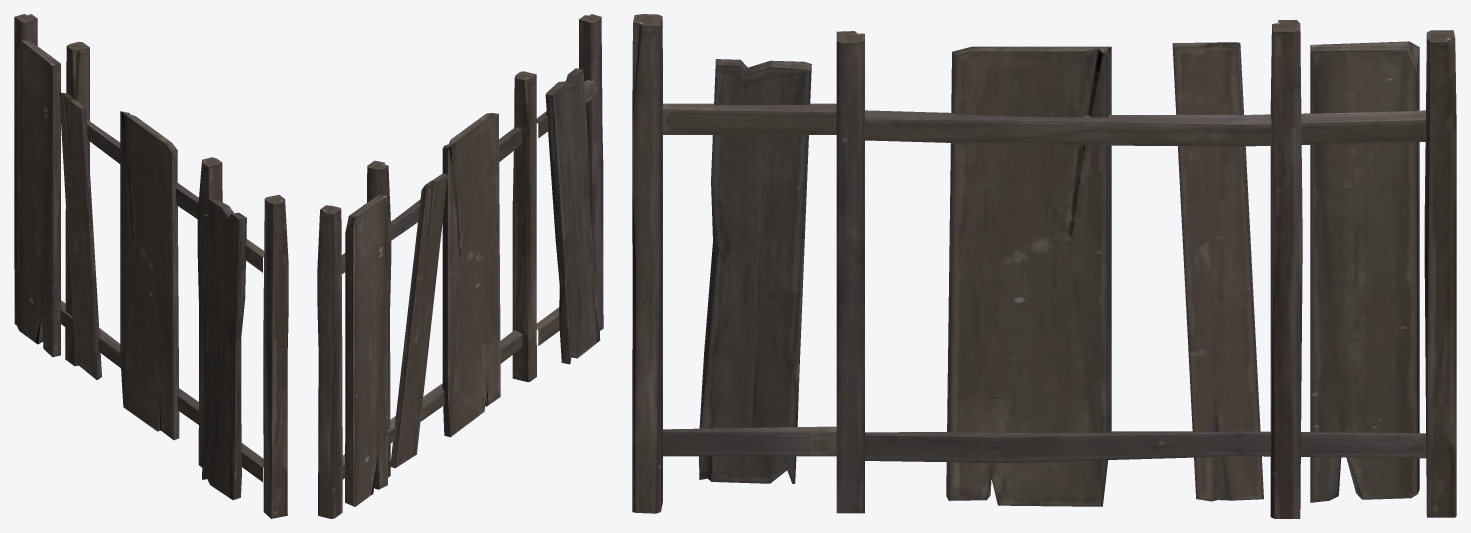
3 renders of one model, left to right at view 1: azimuth 30°, elevation 25°; view 2: azimuth 150°, elevation 25°; view 3: azimuth 270°, elevation 25°, orthographic. The views are drawn at different scales.
Visible parts, largest first — view 1: body0_model0_lod0_mesh0; view 2: body0_model0_lod0_mesh0; view 3: body0_model0_lod0_mesh0.
Boxes of the visible parts, x1,y1,x2,y2 form: body0_model0_lod0_mesh0: (14, 14, 288, 518); body0_model0_lod0_mesh0: (317, 14, 603, 518); body0_model0_lod0_mesh0: (632, 14, 1456, 518).
Size of the model in its own units: 22.22 by 158 by 242.
Materials: 1 (1 with a texture image).
